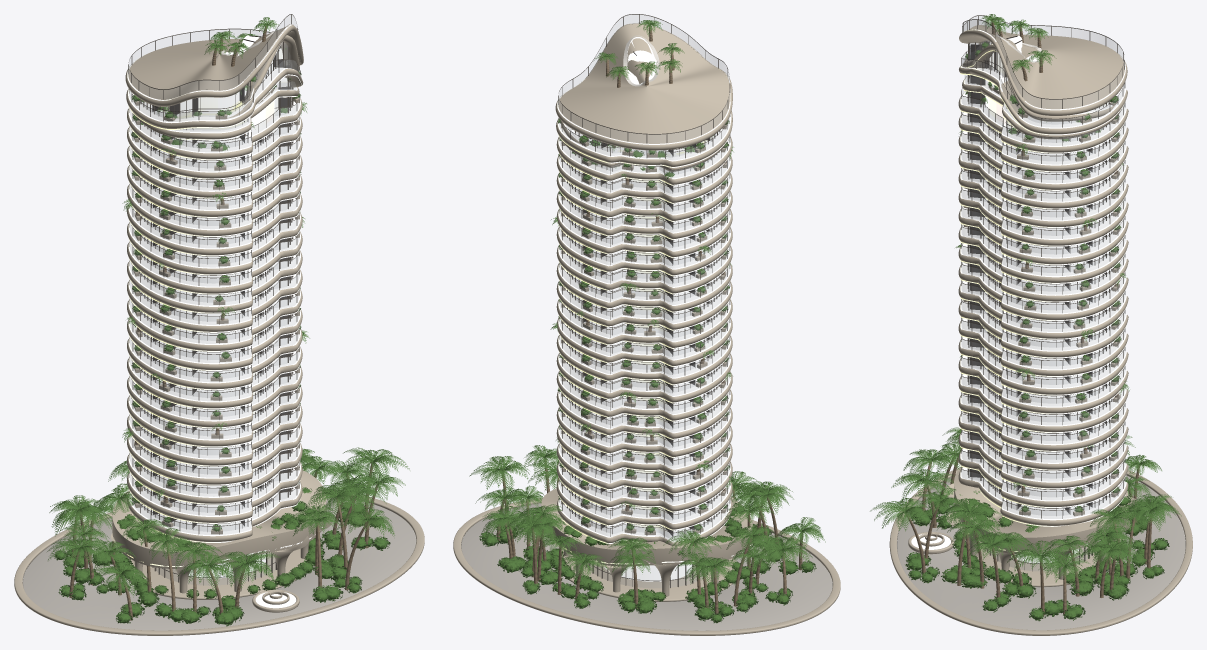
The model's file is isabella.glb.
3 views of the same model, side by side, from view 1: azimuth 30°, elevation 25°; view 2: azimuth 150°, elevation 25°; view 3: azimuth 270°, elevation 25° (orthographic). The views are drawn at different scales.
Visible parts, largest first — view 1: plaza, top_deck, canopy, waterfront_edge, slab_07, slab_19, slab_12, slab_08, slab_05, slab_17, slab_03, slab_15 (+66 smaller); view 2: top_deck, plaza, canopy, waterfront_edge, roof_rail, slab_13, slab_19, slab_01, slab_05, slab_09, slab_11, slab_03 (+63 smaller); view 3: plaza, top_deck, waterfront_edge, canopy, slab_01, slab_05, slab_09, slab_15, slab_02, slab_07, slab_10, slab_17 (+64 smaller).
Boxes of the visible parts, <box> form: plaza: <box>22,496,416,630</box>; top_deck: <box>128,24,301,106</box>; canopy: <box>112,470,326,568</box>; waterfront_edge: <box>14,494,424,635</box>; slab_07: <box>127,346,302,408</box>; slab_19: <box>127,117,302,178</box>; slab_12: <box>127,250,302,312</box>; slab_08: <box>127,328,302,389</box>; slab_05: <box>127,385,302,446</box>; slab_17: <box>127,155,302,216</box>; slab_03: <box>127,423,302,484</box>; slab_15: <box>127,193,302,255</box>; top_deck: <box>558,23,730,150</box>; plaza: <box>461,503,832,630</box>; canopy: <box>541,488,752,566</box>; waterfront_edge: <box>453,498,840,635</box>; roof_rail: <box>559,15,729,143</box>; slab_13: <box>556,263,732,311</box>; slab_19: <box>556,155,732,202</box>; slab_01: <box>556,480,732,529</box>; slab_05: <box>556,407,732,456</box>; slab_09: <box>556,335,732,384</box>; slab_11: <box>556,299,732,347</box>; slab_03: <box>556,443,732,493</box>; plaza: <box>897,475,1185,630</box>; top_deck: <box>961,25,1124,115</box>; waterfront_edge: <box>889,467,1192,635</box>; canopy: <box>954,467,1128,553</box>; slab_01: <box>958,448,1128,506</box>; slab_05: <box>958,374,1128,432</box>; slab_09: <box>958,300,1128,357</box>; slab_15: <box>958,187,1128,245</box>; slab_02: <box>958,430,1128,488</box>; slab_07: <box>958,337,1128,394</box>; slab_10: <box>958,281,1128,338</box>; slab_17: <box>958,149,1128,208</box>.
Size of the model in its own units: 143 by 200 by 108.
